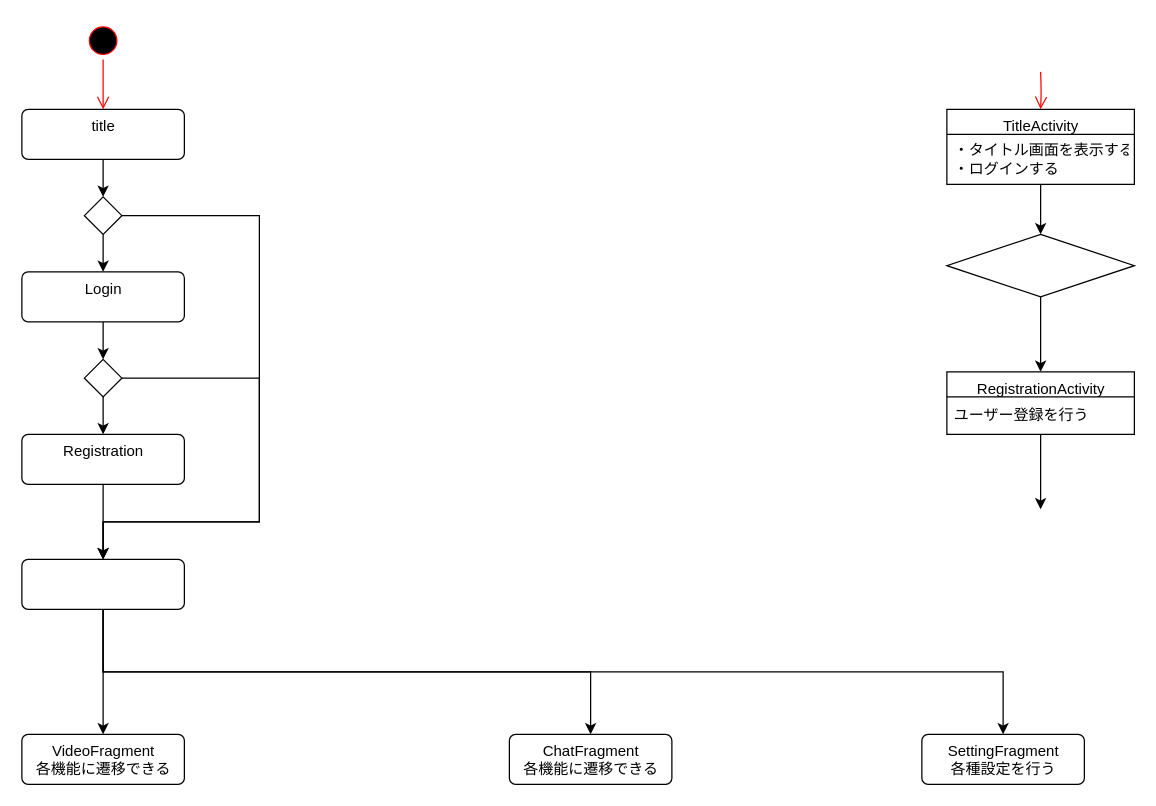
The diagram is 1156 pixels wide and 806 high, and some of its shapes have lost their labels. The centre of each missing label's shape, as x and y in pixels:
MainFragment 各機能に遷移できる: [102,583]
ログイン情報保持 されている？: [1040,265]
